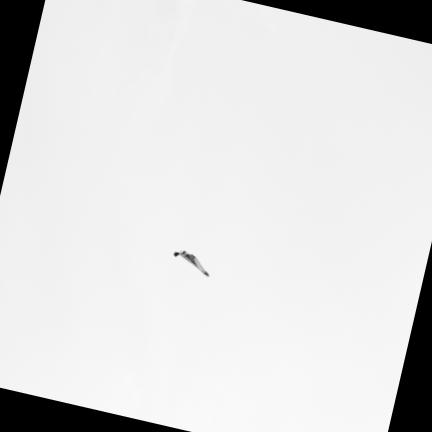Shahed: (173, 251, 208, 276)
